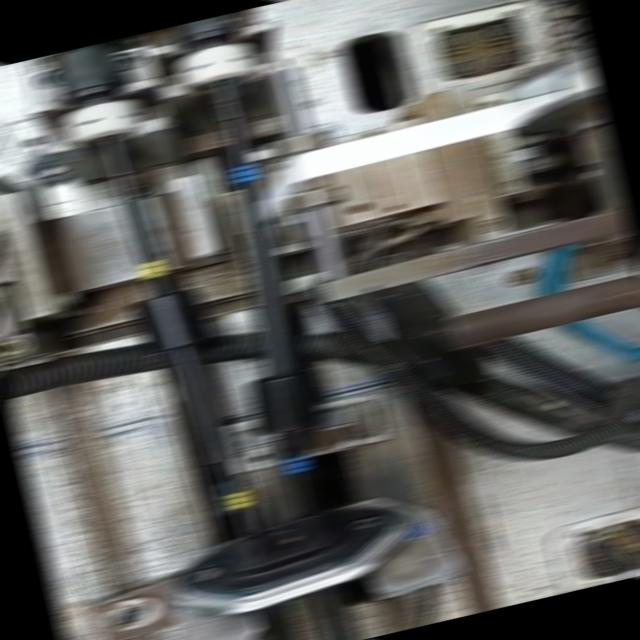blue: (230, 163, 259, 183), (280, 456, 308, 473)
yellow: (138, 260, 165, 278), (224, 490, 248, 509)
